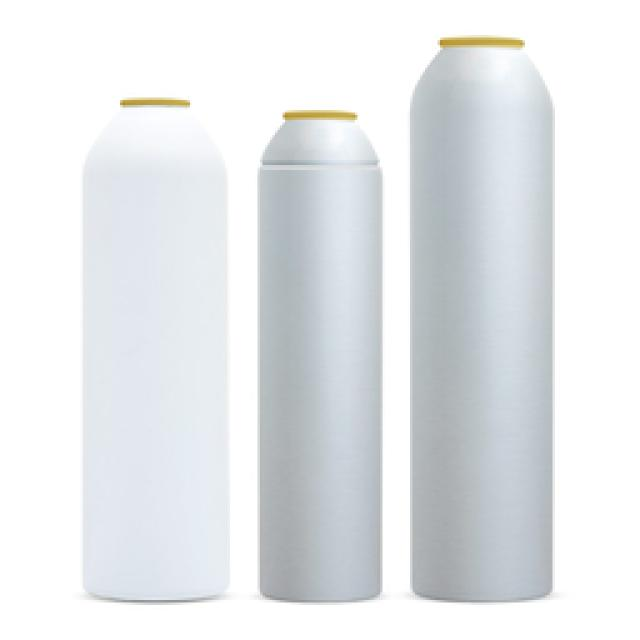alumunium: (410, 50, 550, 598), (82, 108, 228, 598), (258, 118, 380, 600)
